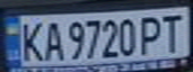0: (118, 15, 139, 57)
2: (100, 16, 121, 60)
7: (81, 16, 103, 60)
9: (63, 17, 84, 61)
A: (39, 18, 66, 62)
K: (15, 18, 45, 63)
P: (136, 12, 166, 55)
T: (157, 10, 187, 53)
